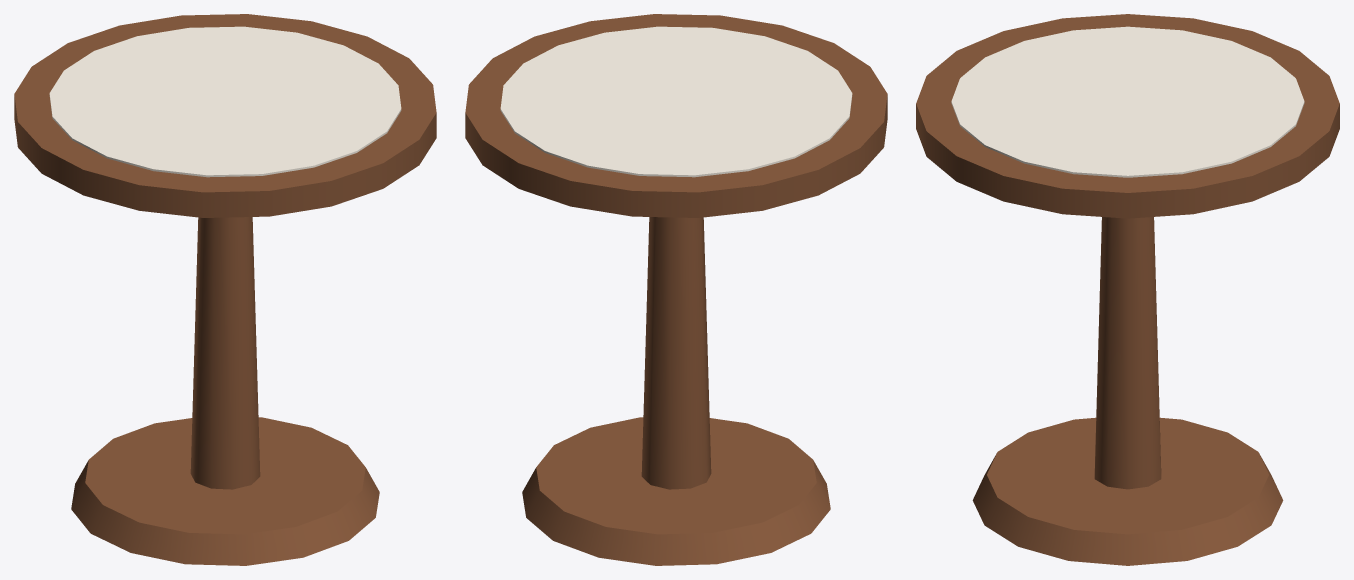
Rendered from side_table.glb.
The picture shows the model from 3 angles, left to right: view 1: azimuth 30°, elevation 25°; view 2: azimuth 150°, elevation 25°; view 3: azimuth 270°, elevation 25°; orthographic projection.
Visible parts, largest first — view 1: main; view 2: main; view 3: main.
Part boxes in pixels (x1,y1,x2,y2): main: [14, 14, 436, 565]; main: [465, 14, 887, 565]; main: [916, 14, 1339, 565].
Bounding box in the file's own units: 0.6 × 0.6235 × 0.6.
